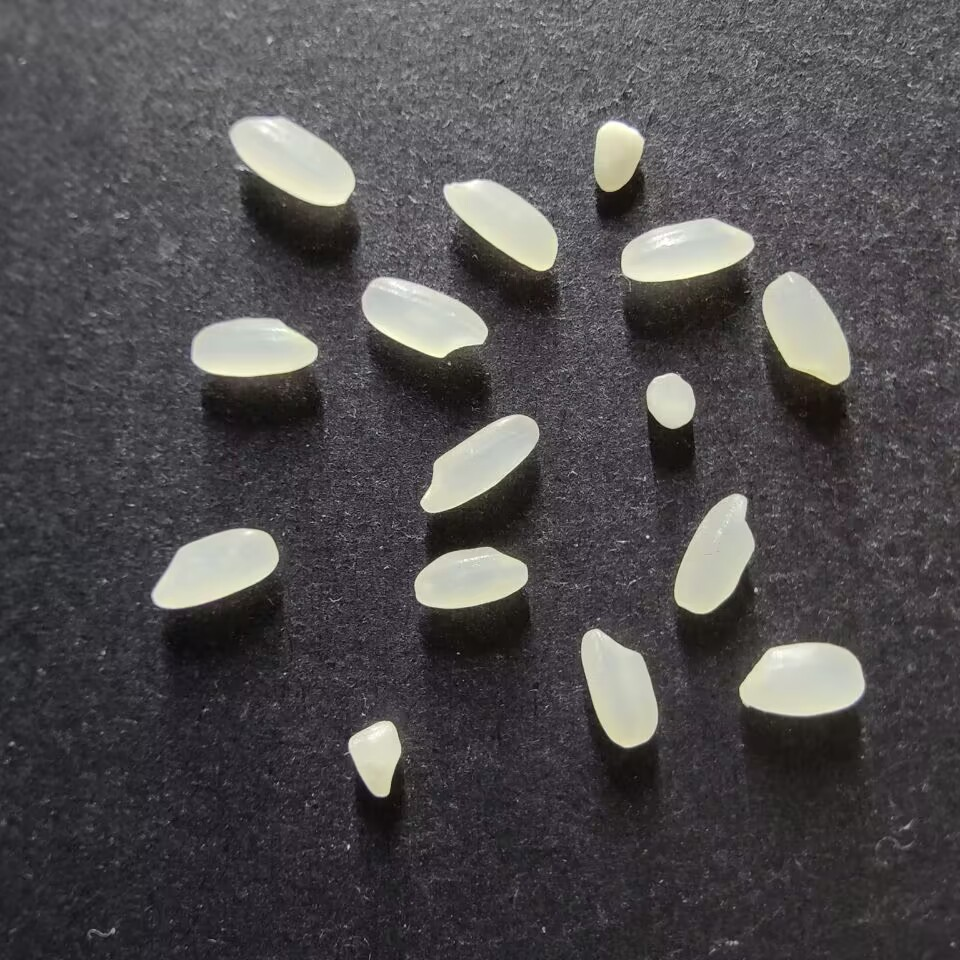broken: (347, 720, 401, 799), (592, 120, 645, 193), (646, 372, 697, 430)
rice: (420, 412, 540, 514), (228, 116, 355, 207), (442, 178, 557, 272), (150, 527, 279, 609), (360, 276, 488, 358), (760, 271, 850, 385), (673, 493, 755, 614), (579, 628, 658, 748), (738, 642, 864, 717), (620, 218, 754, 282), (189, 316, 319, 378), (413, 545, 528, 609)
